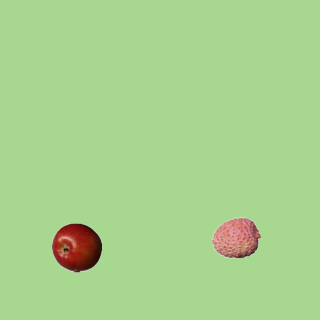Apple Braeburn: (51, 222, 101, 272)
Lychee: (211, 212, 261, 262)
